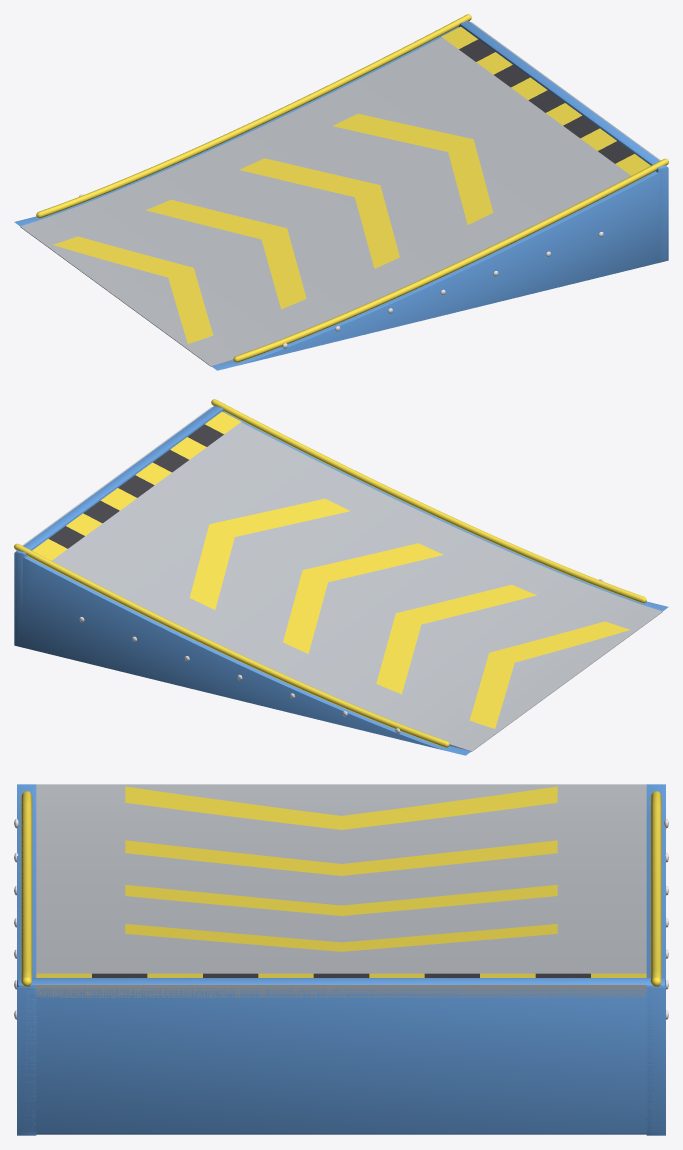
File: ramp.glb
The picture shows the model from 3 angles, top to bottom: view 1: azimuth 30°, elevation 25°; view 2: azimuth 150°, elevation 25°; view 3: azimuth 270°, elevation 25°; orthographic projection. The views are drawn at different scales.
Visible parts, largest first — view 1: ramp; view 2: ramp; view 3: ramp.
Boxes of the visible parts, x1,y1,x2,y2 form: ramp: [14, 14, 668, 370]; ramp: [14, 399, 668, 755]; ramp: [14, 784, 668, 1135].
Size of the model in its own units: 3.02 by 0.6331 by 2.36.
